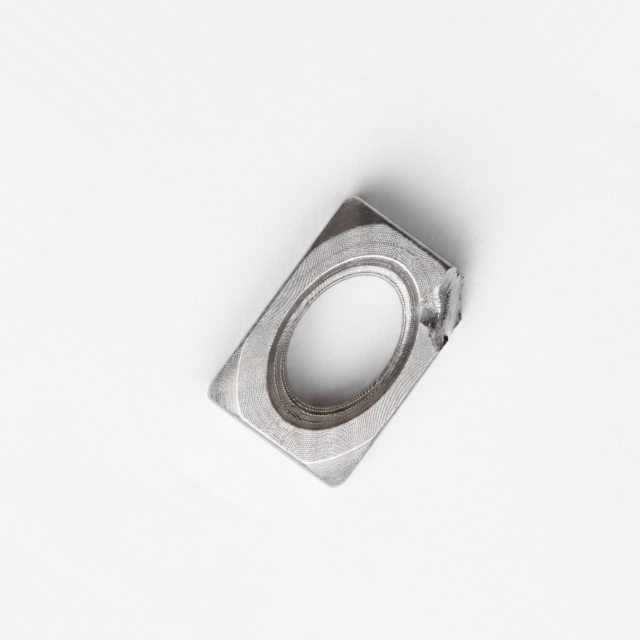defect: (416, 262, 469, 358)
